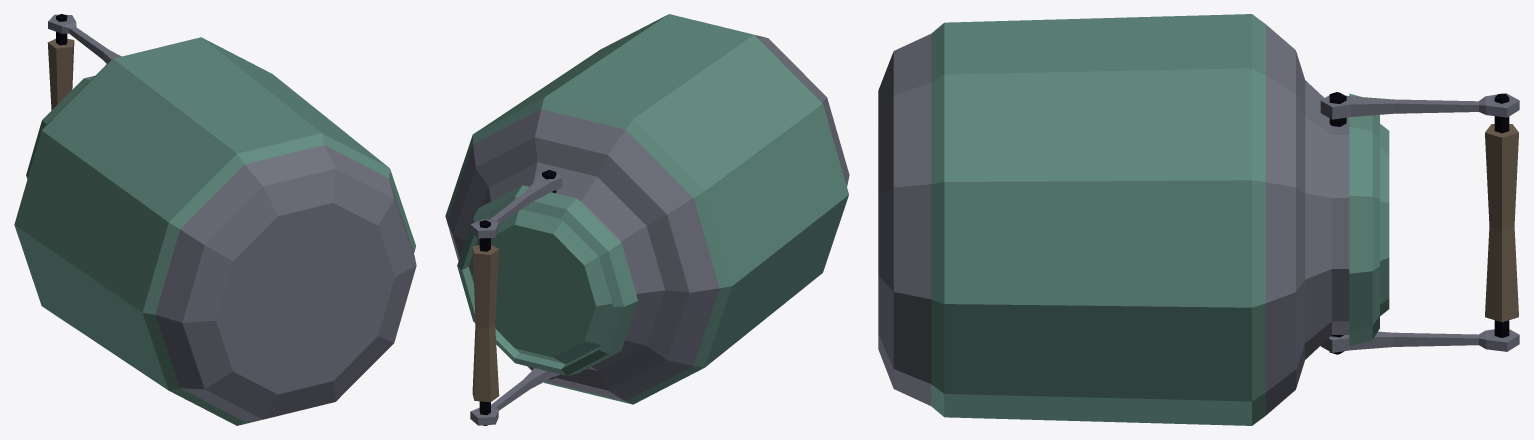
Rendered from barrel_2.glb.
3 renders of one model, left to right at view 1: azimuth 30°, elevation 25°; view 2: azimuth 150°, elevation 25°; view 3: azimuth 270°, elevation 25°, orthographic. The views are drawn at different scales.
Parts seen in each view (by area): view 1: barrel_2; view 2: barrel_2; view 3: barrel_2.
Boxes of the visible parts, <box> form: barrel_2: <box>14,14,416,425</box>; barrel_2: <box>445,14,849,425</box>; barrel_2: <box>878,14,1519,425</box>.
Bounding box in the file's own units: 0.55 × 0.5231 × 0.85.
1 material, 1 textured.
